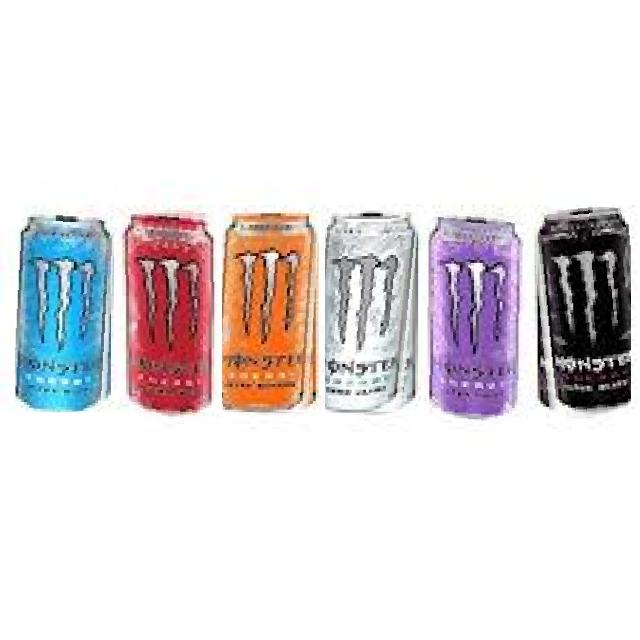Cans: (423, 205, 531, 423), (530, 207, 631, 421), (15, 202, 116, 412), (123, 207, 219, 424), (222, 205, 321, 412), (325, 201, 421, 413)
